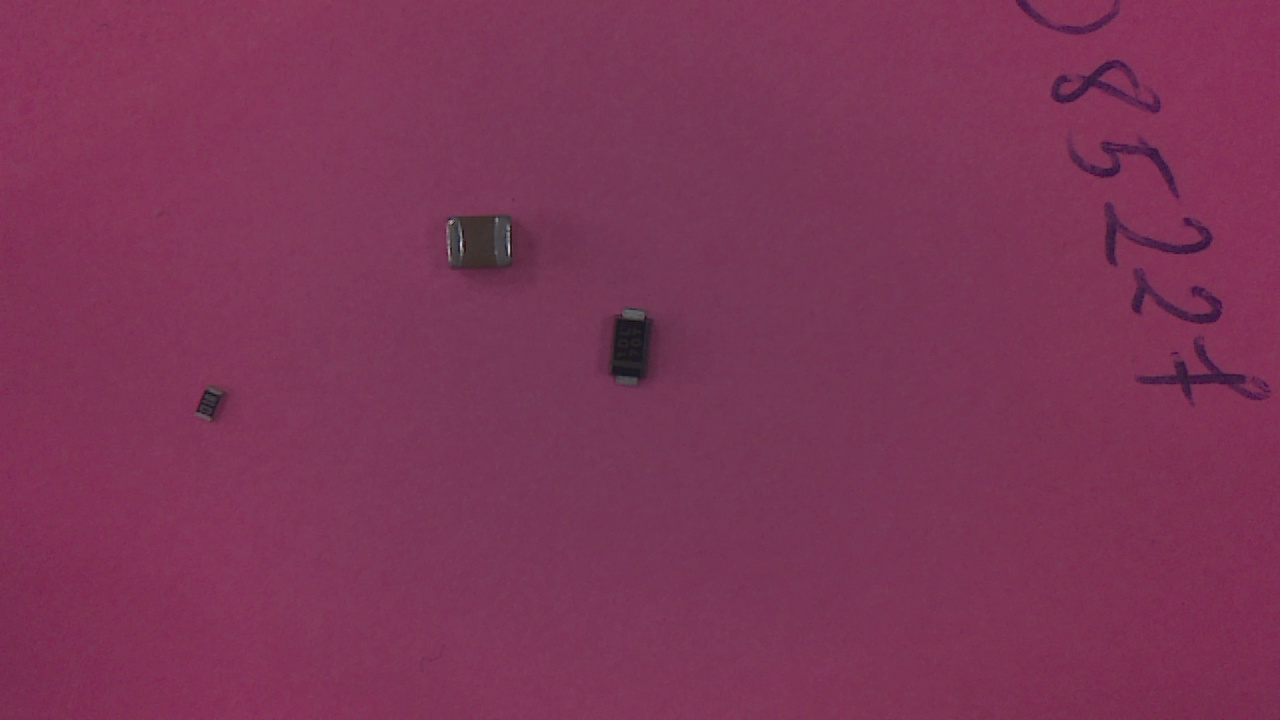Condensator: (452, 217, 521, 275)
Diode: (607, 312, 671, 394)
Resistor: (198, 388, 230, 429)
